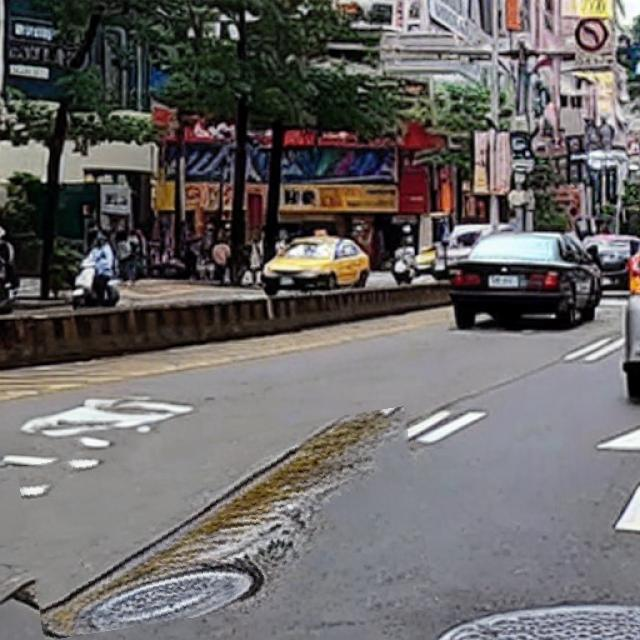puddle: (24, 422, 426, 627)
